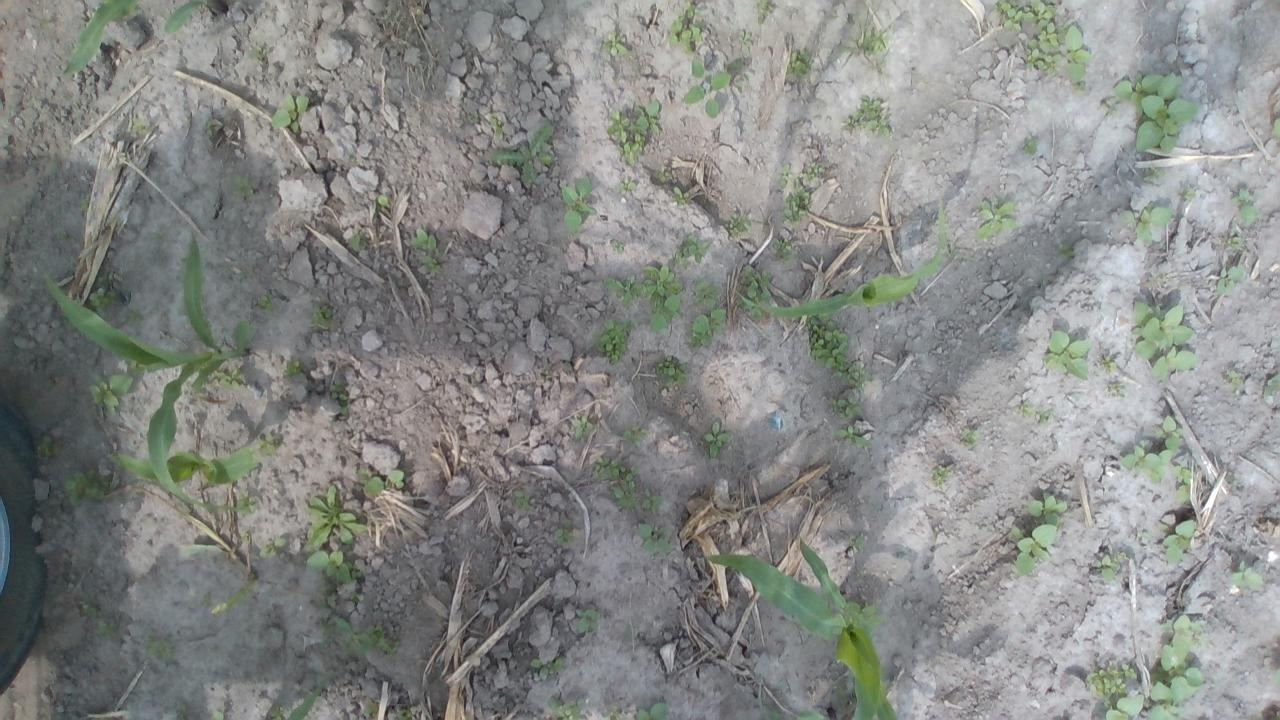Maize: (46, 231, 254, 510), (704, 537, 898, 720), (736, 195, 946, 319), (112, 444, 261, 484), (60, 0, 139, 72), (210, 570, 257, 617), (164, 0, 228, 33), (288, 676, 326, 720)
Weeds: (1112, 72, 1192, 152), (1128, 296, 1200, 376), (1009, 494, 1070, 574), (994, 0, 1060, 72), (1147, 644, 1203, 720), (489, 125, 554, 190), (810, 316, 865, 386), (308, 485, 368, 548), (606, 102, 662, 165), (332, 618, 398, 668), (681, 58, 732, 118), (592, 455, 639, 509), (1047, 325, 1093, 380), (1116, 205, 1172, 246), (840, 95, 892, 138), (558, 174, 594, 232), (1120, 446, 1172, 483), (1057, 26, 1090, 83), (596, 318, 634, 365), (86, 373, 137, 408), (665, 0, 702, 48), (1161, 518, 1197, 564), (977, 196, 1016, 238), (306, 551, 354, 584), (67, 468, 105, 509), (403, 230, 442, 267), (1090, 664, 1134, 696), (270, 93, 308, 129), (643, 264, 684, 296), (1160, 616, 1206, 644), (606, 272, 646, 304), (366, 469, 406, 501), (782, 178, 811, 222), (146, 628, 178, 664), (740, 265, 774, 297), (1232, 560, 1267, 590), (649, 297, 681, 329), (1104, 694, 1146, 718), (653, 356, 686, 384), (681, 236, 714, 264), (1234, 184, 1256, 226), (546, 696, 586, 718), (704, 421, 729, 456), (637, 524, 670, 550), (692, 308, 726, 330), (309, 302, 333, 332), (1174, 466, 1192, 506), (1163, 416, 1183, 450), (726, 208, 752, 234), (693, 280, 719, 306), (1094, 554, 1116, 584), (531, 658, 565, 677), (787, 50, 806, 82), (1096, 348, 1120, 373), (1218, 264, 1238, 294), (832, 397, 861, 417), (569, 415, 592, 440), (575, 609, 598, 634), (213, 369, 240, 390), (232, 175, 254, 200), (636, 704, 670, 720), (864, 29, 887, 52), (39, 436, 60, 461), (78, 598, 103, 619), (368, 186, 394, 206), (260, 538, 287, 557), (607, 31, 628, 54), (838, 425, 866, 442), (261, 433, 283, 454), (772, 238, 792, 260), (512, 489, 532, 511), (248, 44, 272, 62), (1264, 371, 1280, 397), (642, 490, 662, 510), (861, 604, 880, 625), (1109, 378, 1128, 398), (96, 620, 119, 636), (933, 464, 951, 484), (489, 115, 504, 138), (757, 1, 775, 20), (130, 117, 148, 136), (555, 528, 574, 546), (602, 703, 622, 720), (960, 428, 981, 444), (779, 162, 790, 192), (622, 426, 646, 439), (330, 387, 350, 402), (282, 362, 302, 377), (1228, 368, 1244, 386), (350, 234, 363, 256), (250, 294, 270, 308), (652, 168, 666, 188), (672, 187, 686, 207), (1018, 398, 1034, 415), (1180, 184, 1196, 200), (1024, 136, 1040, 152), (240, 496, 256, 512), (620, 180, 637, 195), (268, 705, 284, 720), (1039, 409, 1055, 424), (610, 238, 626, 252), (1228, 231, 1241, 248), (1058, 243, 1074, 256), (693, 333, 707, 347), (1114, 550, 1130, 562), (739, 30, 752, 44), (398, 708, 412, 720), (211, 708, 224, 720), (804, 167, 826, 174), (362, 704, 377, 714), (351, 591, 364, 602), (205, 120, 212, 140), (1274, 118, 1280, 138), (1148, 166, 1160, 174)
